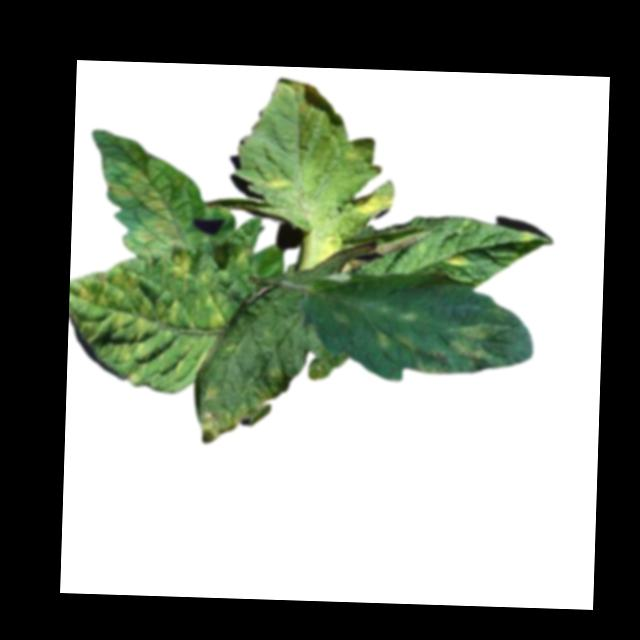Leaf_Mold: (67, 268, 227, 394), (87, 128, 193, 257), (195, 372, 292, 446), (414, 320, 512, 378), (268, 78, 318, 112), (347, 185, 394, 216), (371, 328, 413, 354), (167, 248, 194, 279), (440, 249, 470, 267), (266, 173, 292, 188)
